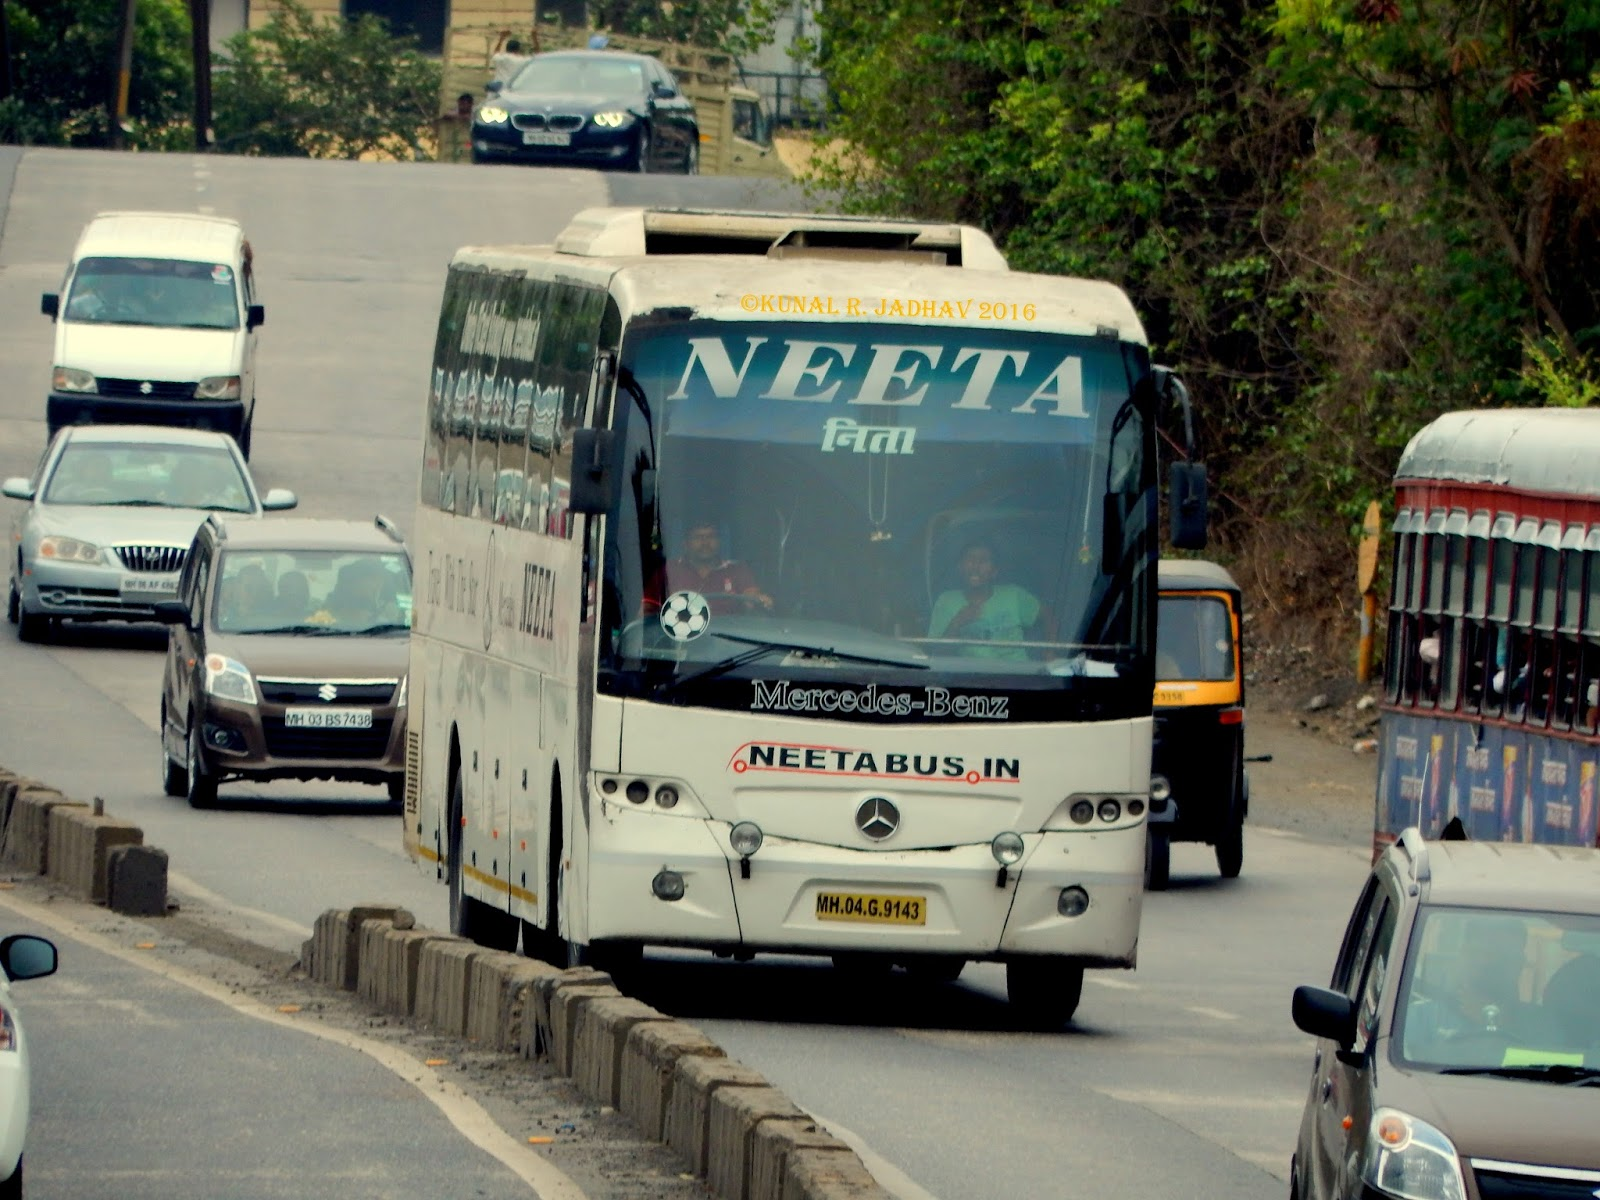bus: (407, 211, 1216, 1034), (1374, 405, 1600, 846)
car: (1285, 832, 1597, 1200), (165, 512, 409, 804), (5, 418, 296, 648), (45, 212, 267, 432), (471, 45, 703, 164)
cng: (1157, 557, 1251, 879)
